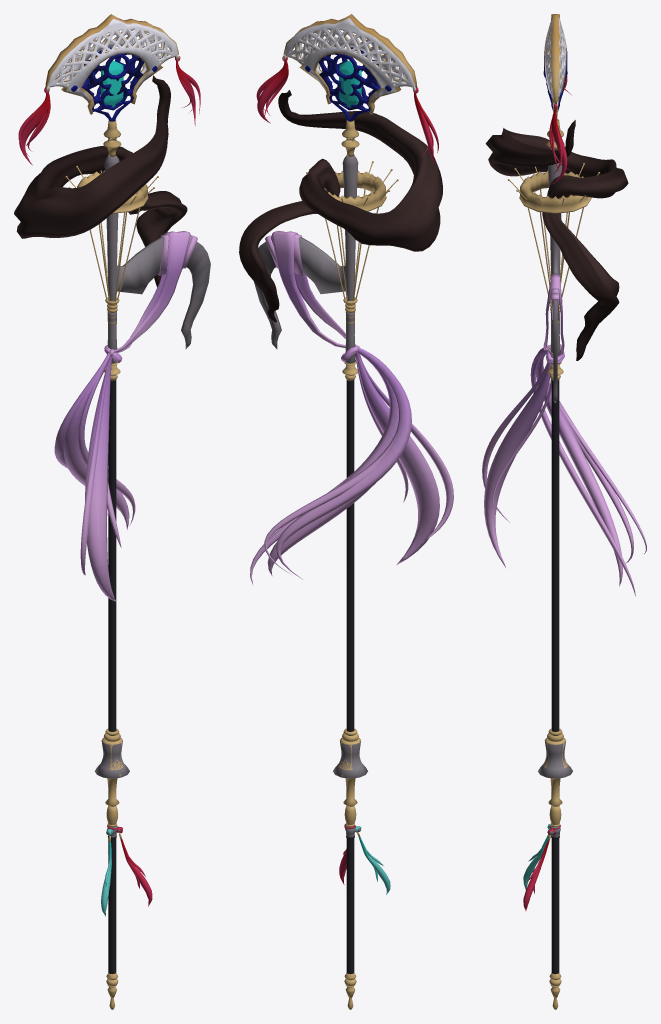
File: 选定之杖.glb
3 renders of one model, left to right at view 1: azimuth 30°, elevation 25°; view 2: azimuth 150°, elevation 25°; view 3: azimuth 270°, elevation 25°, orthographic.
Visible parts, largest first — view 1: 000_他.001, 002_木.001, 005_紫.001, 003_杖.001, 001_房.001, 004_石.001; view 2: 000_他.001, 005_紫.001, 002_木.001, 003_杖.001, 001_房.001, 004_石.001; view 3: 005_紫.001, 002_木.001, 000_他.001, 003_杖.001, 001_房.001.
Part boxes in pixels (x1,y1,x2,y2): 000_他.001: (45,14,210,1009); 002_木.001: (14,75,187,287); 005_紫.001: (54,231,197,601); 003_杖.001: (108,380,116,974); 001_房.001: (18,56,200,916); 004_石.001: (71,60,157,107); 000_他.001: (254,14,417,1009); 005_紫.001: (250,231,453,584); 002_木.001: (239,90,442,322); 003_杖.001: (346,380,354,974); 001_房.001: (256,56,438,895); 004_石.001: (305,60,391,107); 005_紫.001: (482,273,646,596); 002_木.001: (485,120,628,360); 000_他.001: (508,14,599,1009); 003_杖.001: (551,380,559,974); 001_房.001: (523,76,571,910).
Size of the model in its own units: 0.3642 by 1.84 by 0.276.
Materials: 6 (6 with a texture image).
